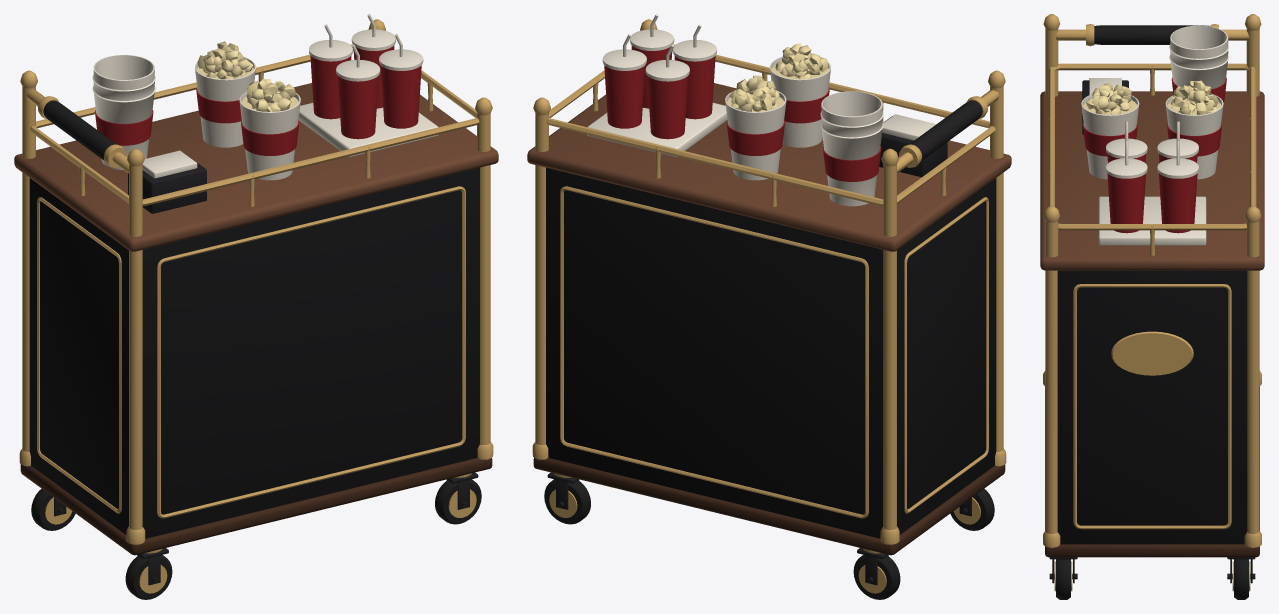
File: service_cart.glb
3 views of the same model, side by side, from view 1: azimuth 30°, elevation 25°; view 2: azimuth 150°, elevation 25°; view 3: azimuth 270°, elevation 25° (orthographic). The views are drawn at different scales.
Visible parts, largest first — view 1: Panel_LOD0, Panel_LOD0.002, Top_LOD0, Deck_LOD0, Gallery_LOD0, Post_LOD0, Bead_LOD0, Stack_LOD0, Post_LOD0.002, Post_LOD0.001, Bead_LOD0.002, Carrier_LOD0 (+20 smaller); view 2: Panel_LOD0.001, Panel_LOD0.002, Top_LOD0, Deck_LOD0, Gallery_LOD0, Post_LOD0.001, Bead_LOD0.001, Stack_LOD0, Post_LOD0.003, Post_LOD0, Bead_LOD0.002, Carrier_LOD0 (+20 smaller); view 3: Panel_LOD0.003, Top_LOD0, Gallery_LOD0, Post_LOD0.002, Post_LOD0.003, Stack_LOD0, Bead_LOD0.003, Deck_LOD0, Plaque_LOD0, Carrier_LOD0, Cup_LOD0.002, Cup_LOD0.003 (+17 smaller).
Boxes of the visible parts, <box> form: Panel_LOD0: <box>142,167,479,538</box>; Panel_LOD0.002: <box>29,178,128,534</box>; Top_LOD0: <box>14,83,498,251</box>; Deck_LOD0: <box>20,458,492,555</box>; Gallery_LOD0: <box>30,44,479,206</box>; Post_LOD0: <box>129,164,142,544</box>; Bead_LOD0: <box>157,186,465,518</box>; Stack_LOD0: <box>92,55,155,169</box>; Post_LOD0.002: <box>477,113,490,459</box>; Post_LOD0.001: <box>22,86,35,451</box>; Bead_LOD0.002: <box>37,197,121,513</box>; Carrier_LOD0: <box>298,103,438,156</box>; Panel_LOD0.001: <box>546,167,883,538</box>; Panel_LOD0.002: <box>897,178,996,534</box>; Top_LOD0: <box>527,83,1011,251</box>; Deck_LOD0: <box>533,458,1005,555</box>; Gallery_LOD0: <box>546,44,995,206</box>; Post_LOD0.001: <box>883,164,896,544</box>; Bead_LOD0.001: <box>560,186,868,518</box>; Stack_LOD0: <box>820,91,883,206</box>; Post_LOD0.003: <box>535,113,548,459</box>; Post_LOD0: <box>990,86,1003,451</box>; Bead_LOD0.002: <box>904,197,988,513</box>; Carrier_LOD0: <box>587,103,727,156</box>; Panel_LOD0.003: <box>1057,270,1247,544</box>; Top_LOD0: <box>1040,91,1264,270</box>; Gallery_LOD0: <box>1048,63,1256,230</box>; Post_LOD0.002: <box>1045,220,1058,547</box>; Post_LOD0.003: <box>1246,220,1259,547</box>; Stack_LOD0: <box>1169,25,1229,89</box>; Bead_LOD0.003: <box>1073,284,1231,529</box>; Deck_LOD0: <box>1045,386,1259,557</box>; Plaque_LOD0: <box>1111,331,1193,375</box>; Carrier_LOD0: <box>1098,196,1206,245</box>; Cup_LOD0.002: <box>1107,173,1145,233</box>; Cup_LOD0.003: <box>1159,173,1197,233</box>.
Bounding box in the file's own units: 0.86 × 1.05 × 0.48.
